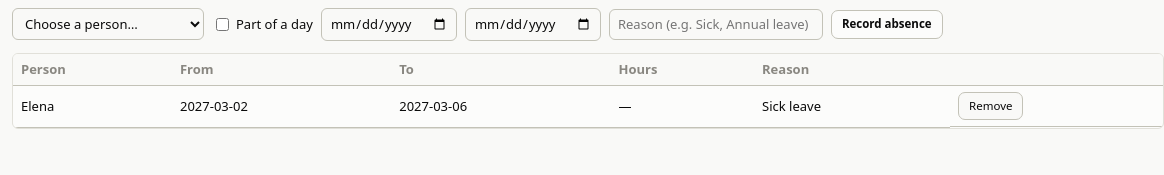
the panel — R-359, a part-day absence › names the zone once a person is chosen, resolved for THAT person's own place
Expected: the text "Sick leave" is shown, [754, 85, 950, 127]
Click the checkbox labelled "Part of a day" at point(222, 24), box [216, 18, 229, 31]
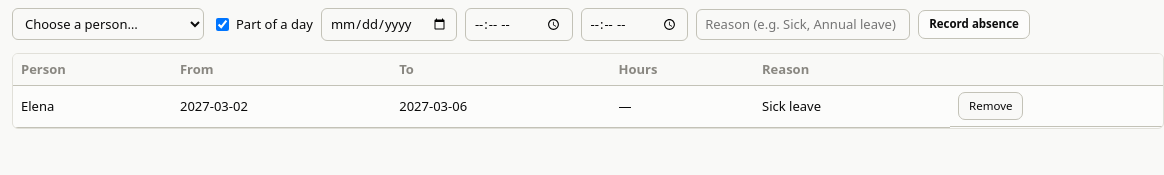
Select "Tom" in the dropdown named "Person" at point(108, 24), box [12, 8, 204, 40]
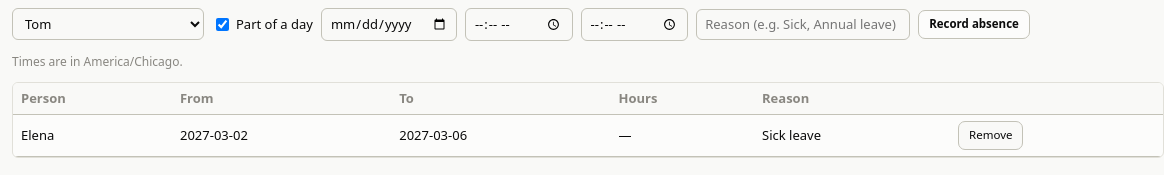
Expected: the text "Times are in America/Chicago." is shown, [12, 53, 183, 70]
